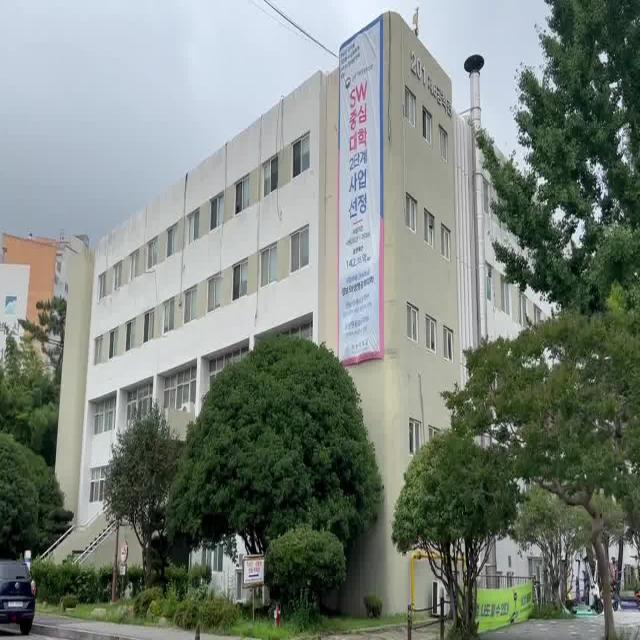building: (73, 115, 348, 344)
